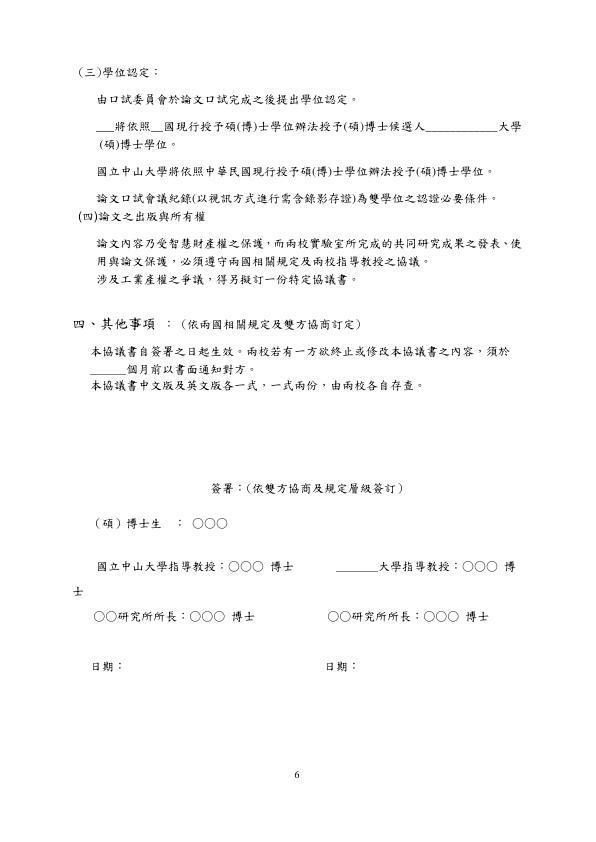input: (426, 117, 497, 138), (333, 556, 377, 579), (90, 360, 124, 378), (95, 118, 114, 135), (152, 118, 162, 136)
text: (92, 233, 525, 289), (89, 342, 515, 360), (95, 162, 499, 180), (94, 190, 498, 207), (83, 379, 428, 396), (70, 314, 364, 332), (322, 606, 493, 632), (164, 119, 424, 136), (95, 91, 359, 107), (208, 480, 406, 500), (90, 560, 295, 577), (89, 607, 257, 627), (381, 557, 518, 576), (94, 517, 239, 534), (74, 209, 208, 227), (126, 361, 258, 375), (74, 62, 158, 80), (87, 654, 134, 679), (96, 137, 178, 151), (325, 659, 362, 675), (114, 120, 149, 134), (500, 117, 526, 135), (71, 583, 87, 598)
